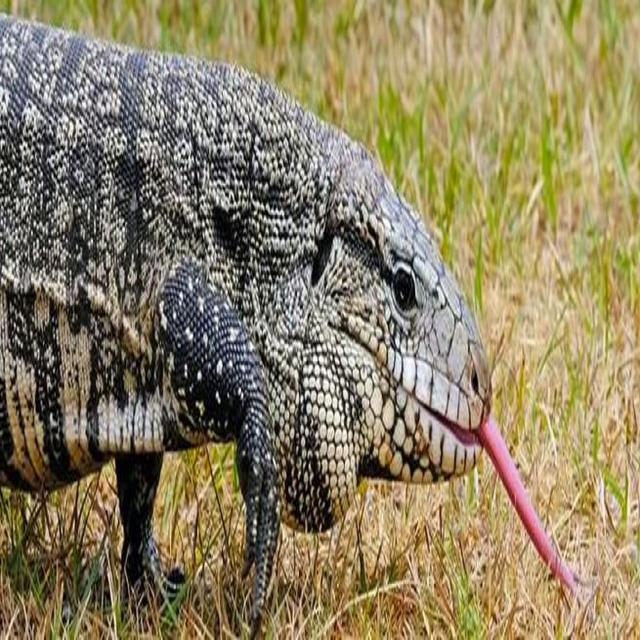lizard: (0, 16, 578, 623)
